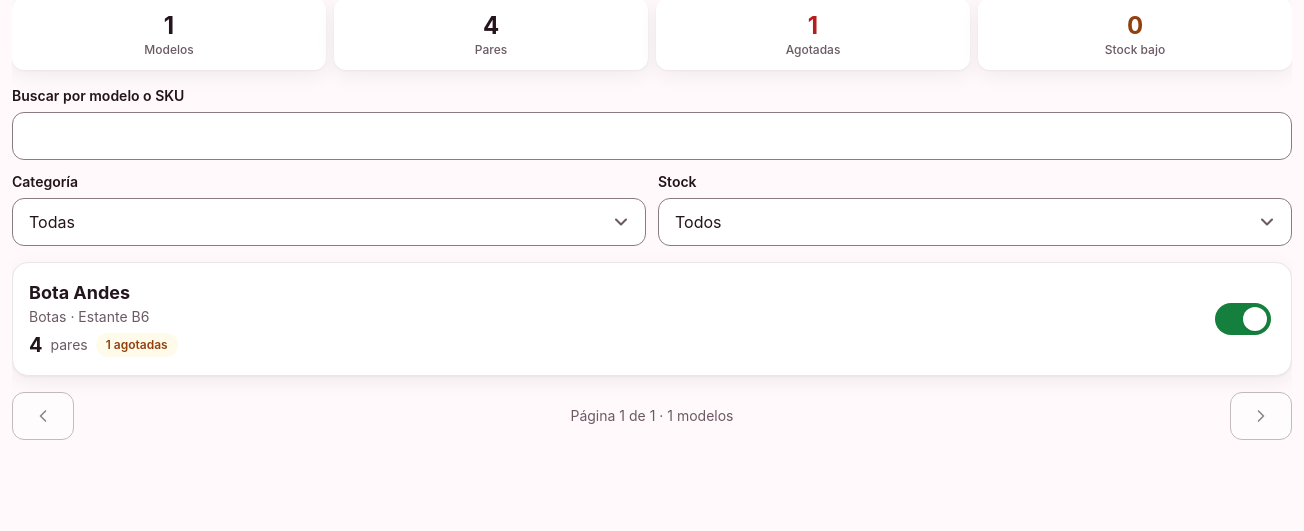
Test: Inventario: interruptor de activo — si el servidor falla vuelve atrás y avisa
Click the switch named "Bota Andes: activo".
click(1243, 319)  # box [1211,295,1275,343]
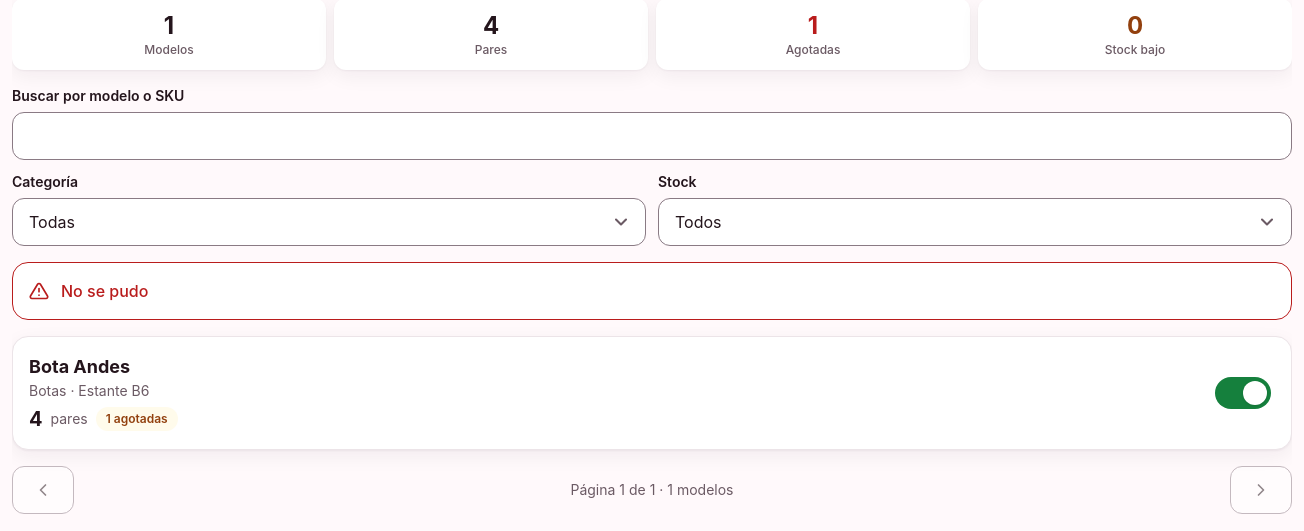
Expected: the message reads "No se pudo", [61,281,148,301]
